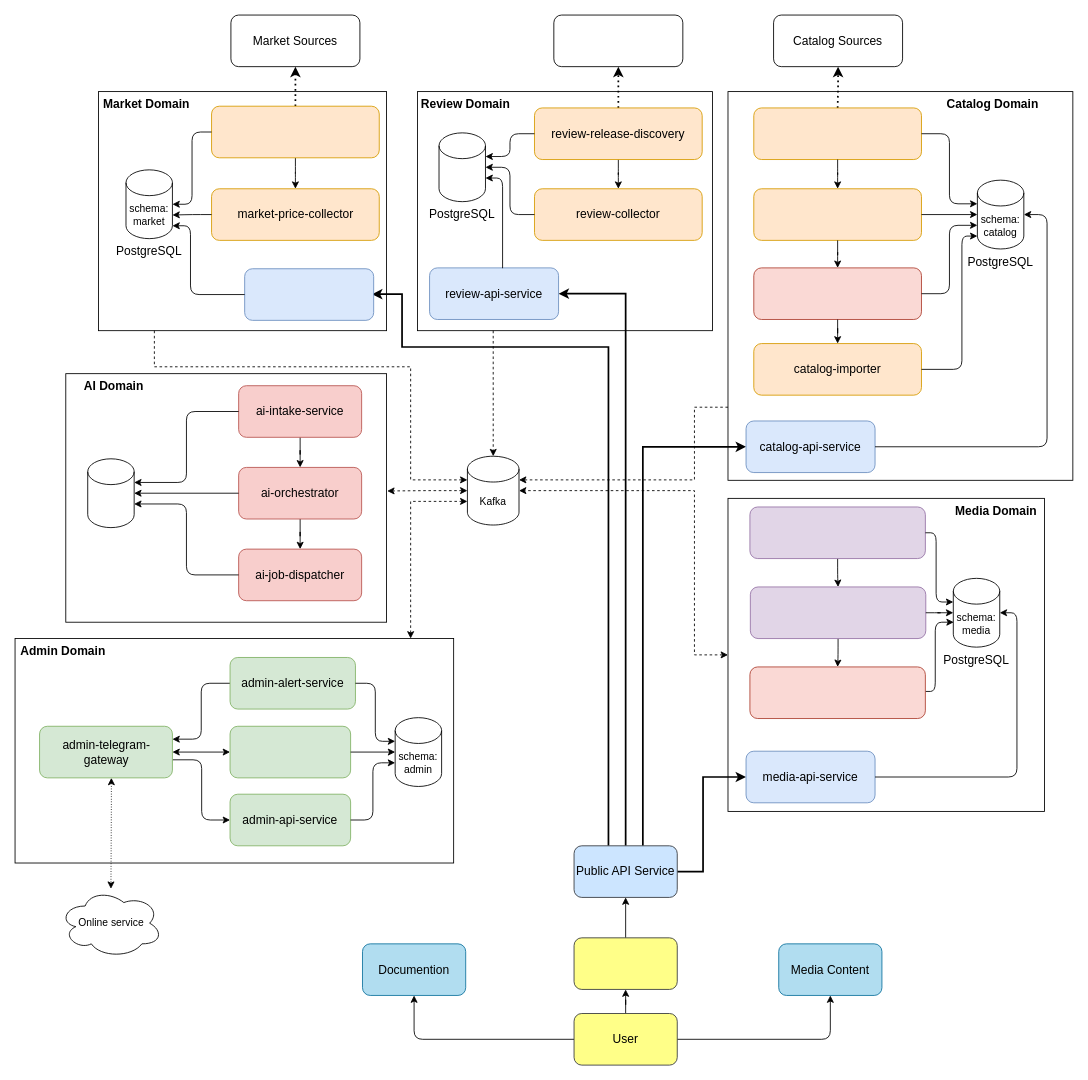
Some shapes in this 1088 by 1080 pixel diagram are drawn without their labels. The centre of each missing label's shape, as x and y in pixels:
admin-review-service: the point at 290,751
catalog-content-collector: the point at 837,214
catalog-data-enricher: the point at 837,293
catalog-source-discovery: the point at 837,133
market-api-service: the point at 309,294
market-release-discovery: the point at 295,131
media-normalizator: the point at 837,692
media-rehosting-processor: the point at 837,612
media-rehosting-subscriber: the point at 837,532
Review Sources: the point at 618,40
schema: ai: the point at 110,493
schema: review: the point at 461,167
UI: the point at 625,963
